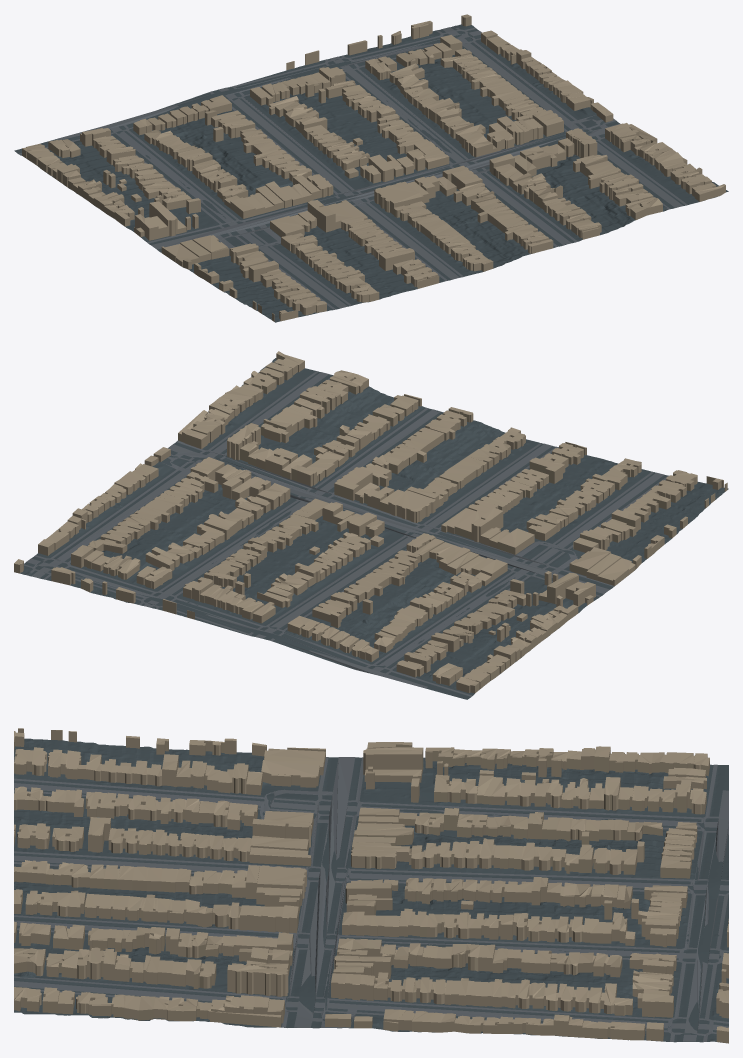
The model's file is epsg26910-1419-10878.lod0.glb.
3 views of the same model, one above another, from view 1: azimuth 30°, elevation 25°; view 2: azimuth 150°, elevation 25°; view 3: azimuth 270°, elevation 25° (orthographic). The views are drawn at different scales.
Parts seen in each view (by area): view 1: epsg26910-1419-10878-lod0; view 2: epsg26910-1419-10878-lod0; view 3: epsg26910-1419-10878-lod0.
Boxes of the visible parts, x1=… form: epsg26910-1419-10878-lod0: x1=14, y1=14, x2=728, y2=322; epsg26910-1419-10878-lod0: x1=14, y1=351, x2=728, y2=699; epsg26910-1419-10878-lod0: x1=14, y1=728, x2=728, y2=1043.
Size of the model in its own units: 384 by 38.61 by 384.
